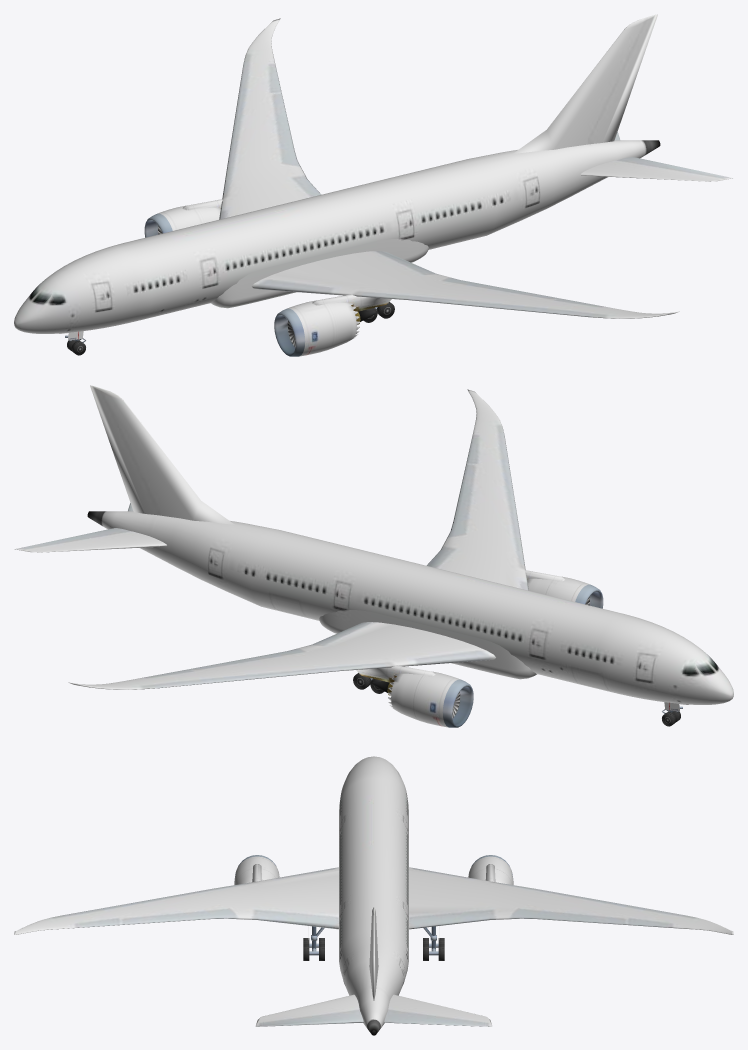
3 renders of one model, top to bottom at view 1: azimuth 30°, elevation 25°; view 2: azimuth 150°, elevation 25°; view 3: azimuth 270°, elevation 25°, orthographic. The views are drawn at different scales.
Visible parts, largest first — view 1: airframe, gear; view 2: airframe, gear; view 3: airframe, gear.
Boxes of the visible parts, x1,y1,x2,y2 form: airframe: (14, 14, 733, 356); gear: (59, 302, 394, 355); airframe: (14, 385, 733, 727); gear: (353, 673, 688, 726); airframe: (14, 756, 733, 1035); gear: (303, 926, 444, 960).
Bounding box in the file's own units: 56.59 × 16.56 × 60.04.
1 material, 1 textured.
